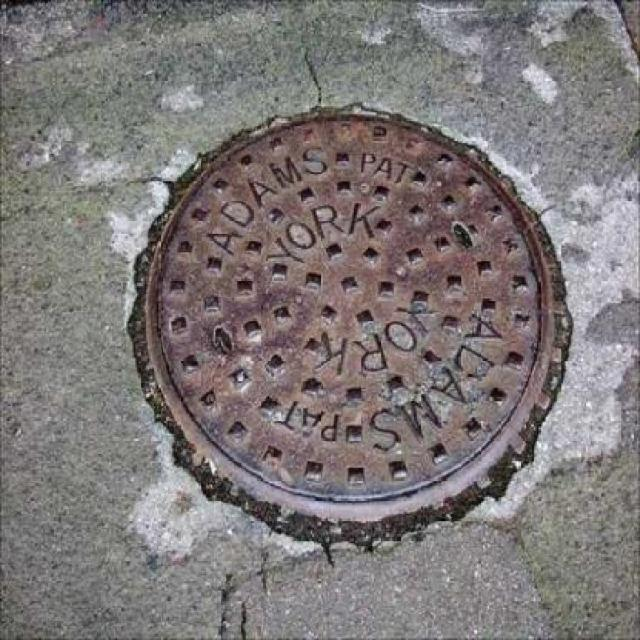Manhole: (124, 98, 584, 550)
